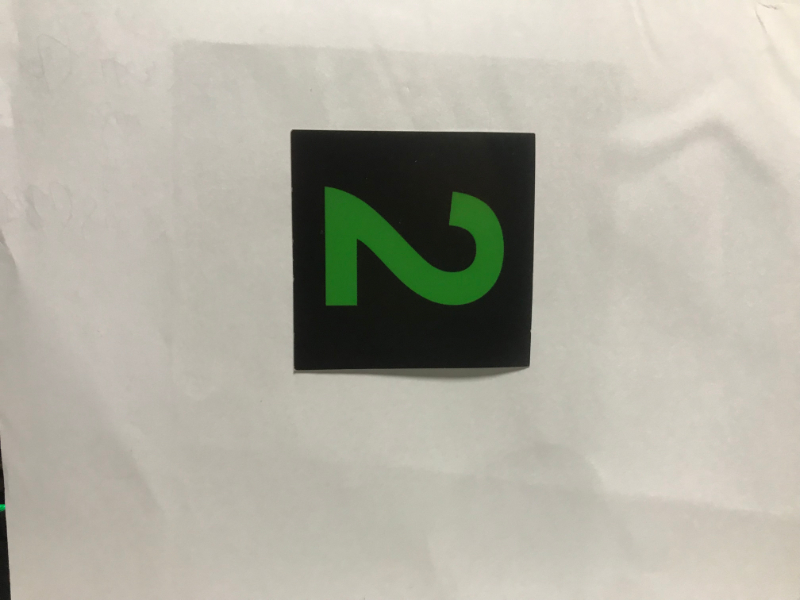Two-7: (298, 135, 529, 365)
